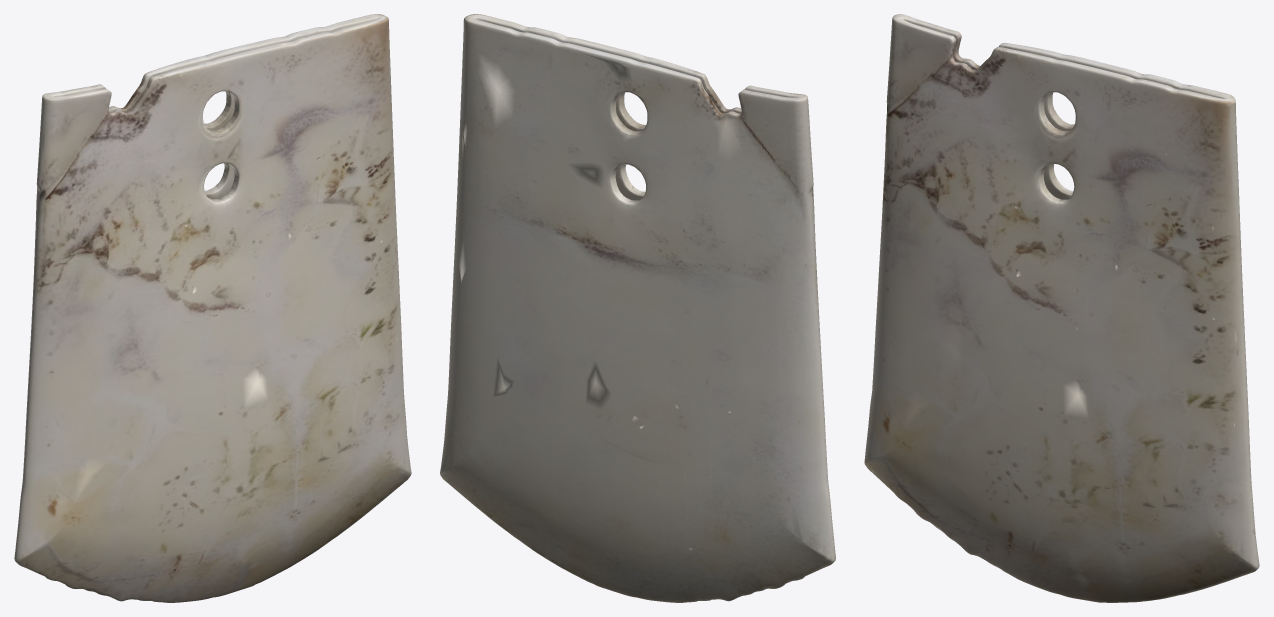
Rendered from double-hole-yue-detail.glb.
3 renders of one model, left to right at view 1: azimuth 30°, elevation 25°; view 2: azimuth 150°, elevation 25°; view 3: azimuth 330°, elevation 25°, orthographic.
Parts seen in each view (by area): view 1: node_0; view 2: node_0; view 3: node_0.
Part boxes in pixels (left/top/right/bottom): node_0: left=14, top=14, right=411, bottom=602; node_0: left=440, top=14, right=835, bottom=602; node_0: left=864, top=14, right=1259, bottom=602.
Size of the model in its own units: 0.7653 by 1 by 0.0997.
Materials: 1 (1 with a texture image).
